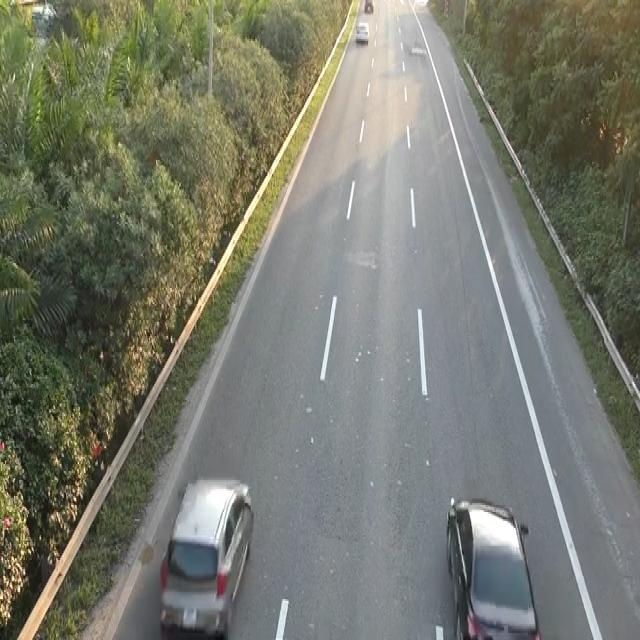bus: (156, 471, 255, 635), (443, 492, 542, 636), (354, 20, 370, 44)
